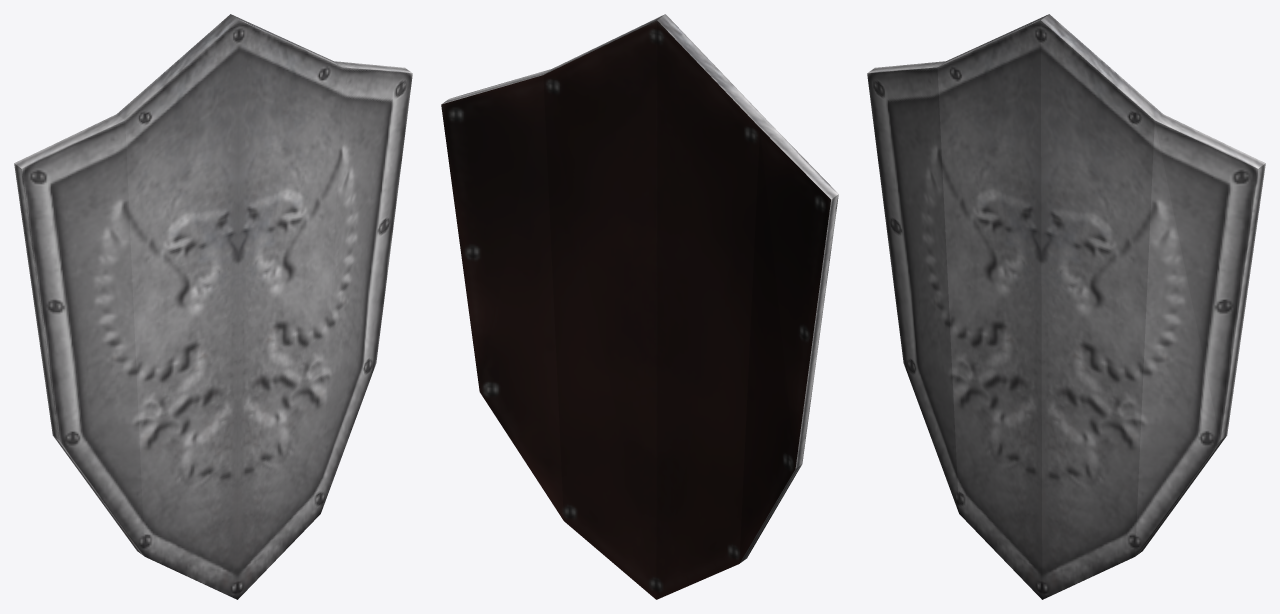
File: MedievalShield.fbx
3 renders of one model, left to right at view 1: azimuth 30°, elevation 25°; view 2: azimuth 150°, elevation 25°; view 3: azimuth 330°, elevation 25°, orthographic.
Visible parts, largest first — view 1: MedievalShield; view 2: MedievalShield; view 3: MedievalShield.
Boxes of the visible parts, bbox=[...] form: MedievalShield: bbox=[14, 14, 412, 599]; MedievalShield: bbox=[441, 14, 838, 599]; MedievalShield: bbox=[867, 14, 1265, 599].
Size of the model in its own units: 0.3249 by 0.4611 by 0.0425.
